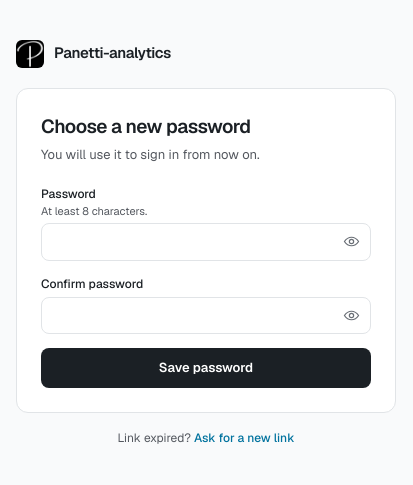
ResetClient › refuses two passwords that do not match, without spending the link
In the password field labelled "Password": (206, 242) x1=41 y1=223 x2=371 y2=260, type "a good long one"
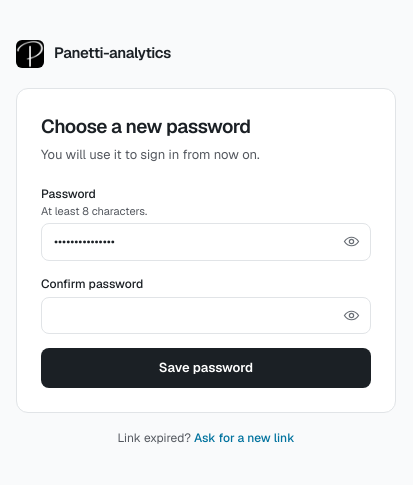
In the password field labelled "Confirm password": (206, 315) x1=41 y1=296 x2=371 y2=334, type "a good long onf"
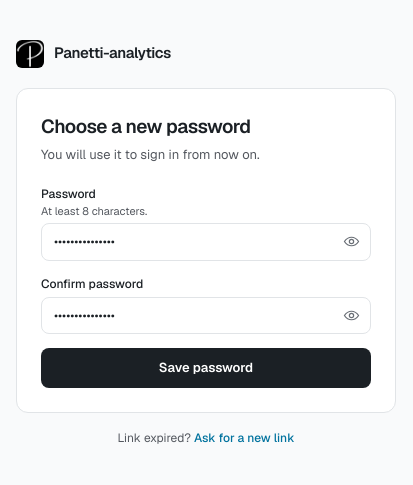
Submit the form with test id "reset-form", box x1=41 y1=184 x2=371 y2=388
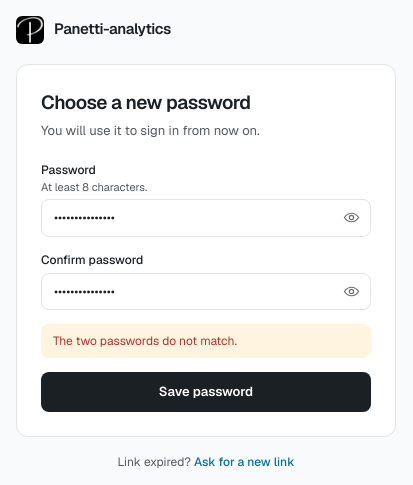
Expected: the message shows "do not match", x1=53 y1=333 x2=237 y2=349
